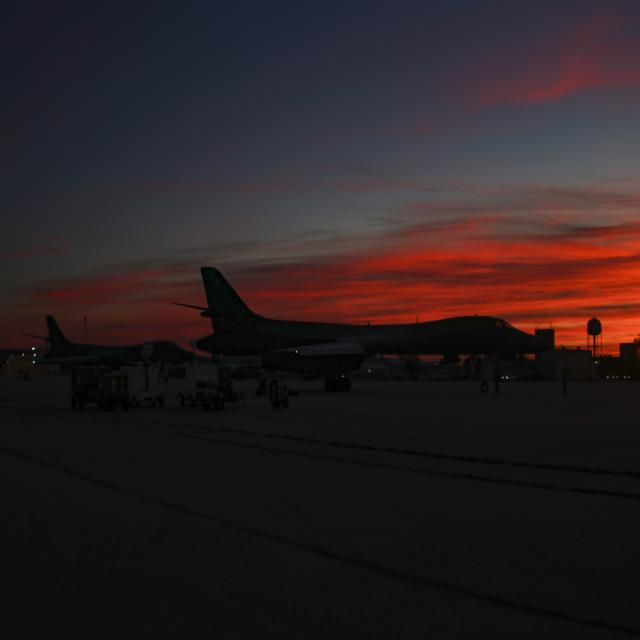MIL_Plane: (167, 267, 555, 392), (53, 314, 167, 383)
